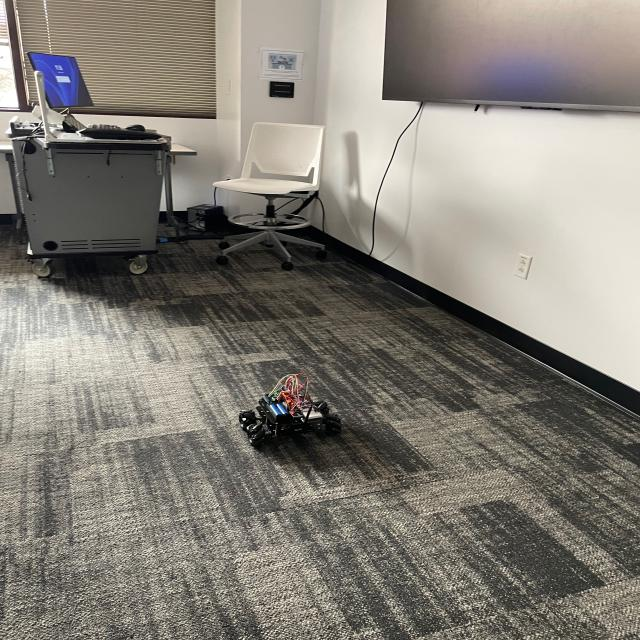ArduinoCar: (231, 368, 341, 456)
